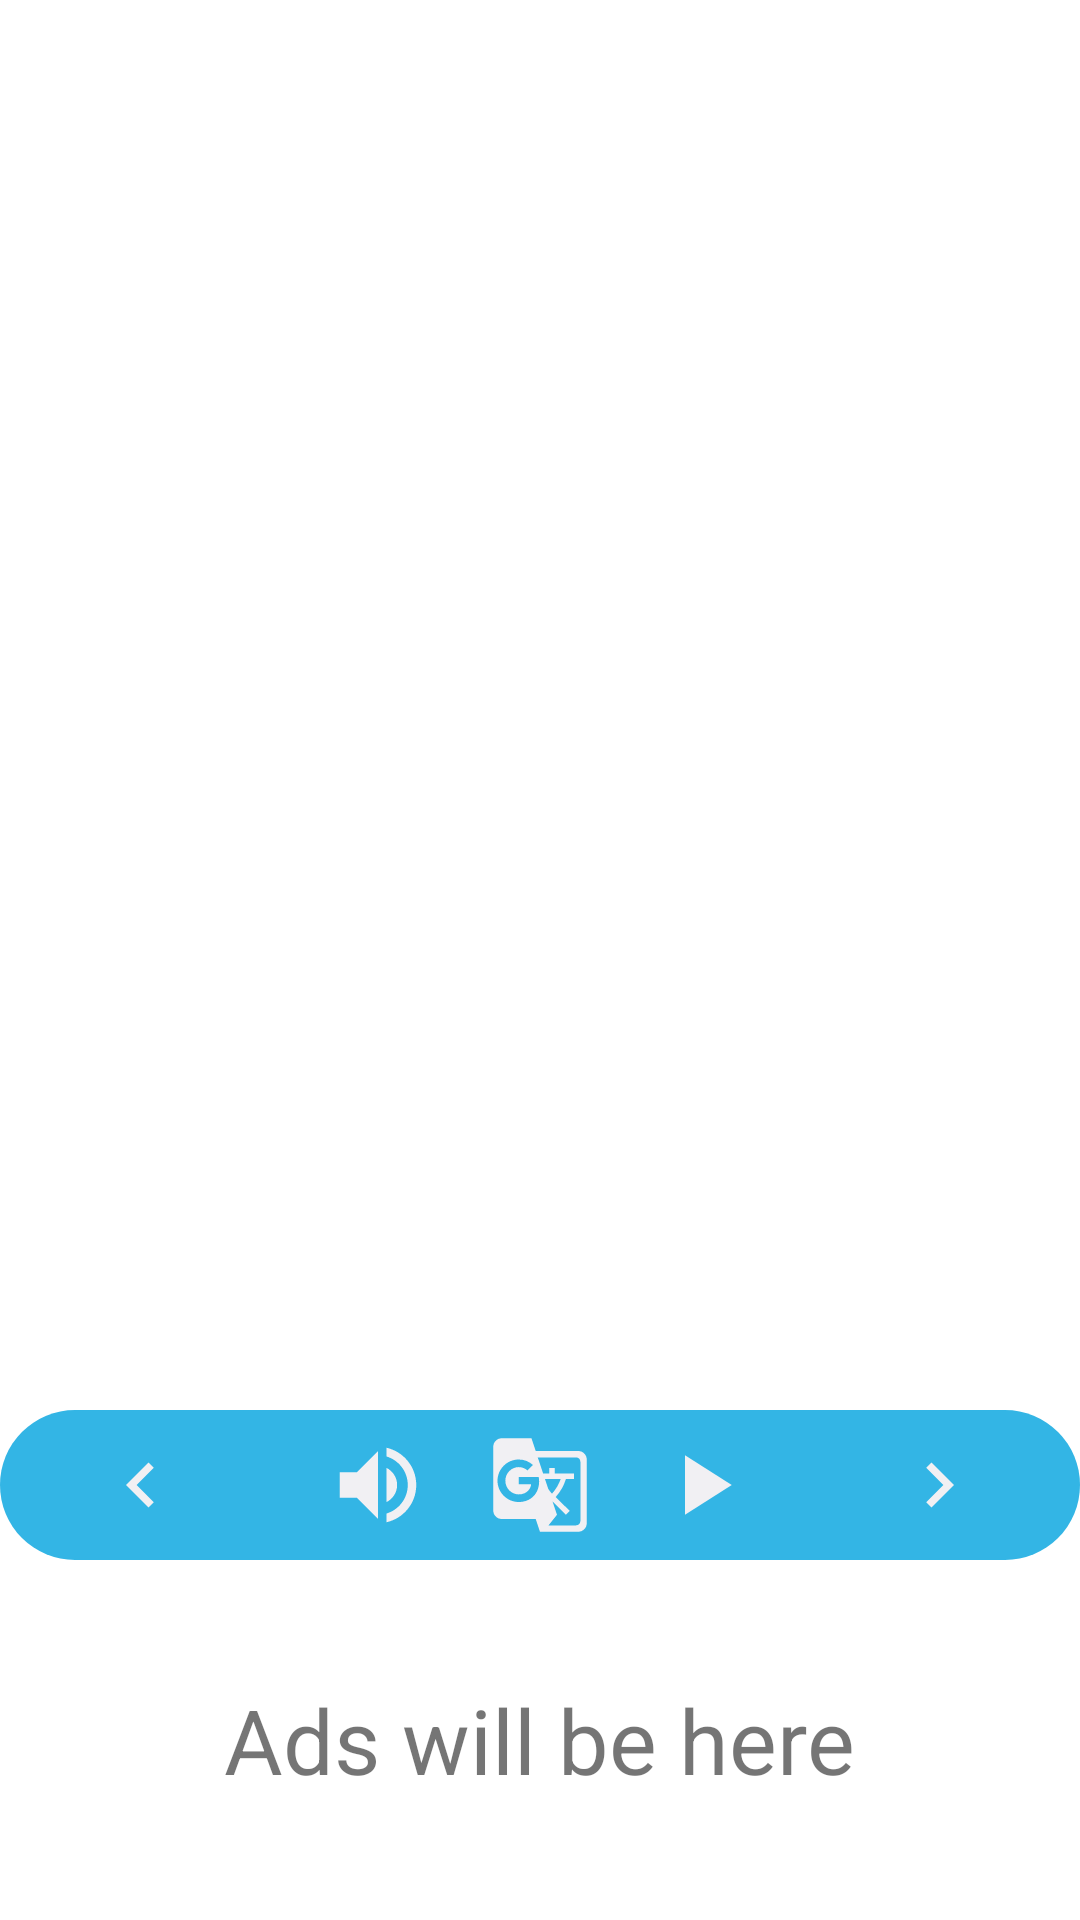

Screen size 1080px×1920px. Icon name, then its center in pixels as point (x, y):
navigate before: point (140, 1485)
navigate next: point (940, 1485)
play: point (708, 1485)
volume: point (378, 1485)
